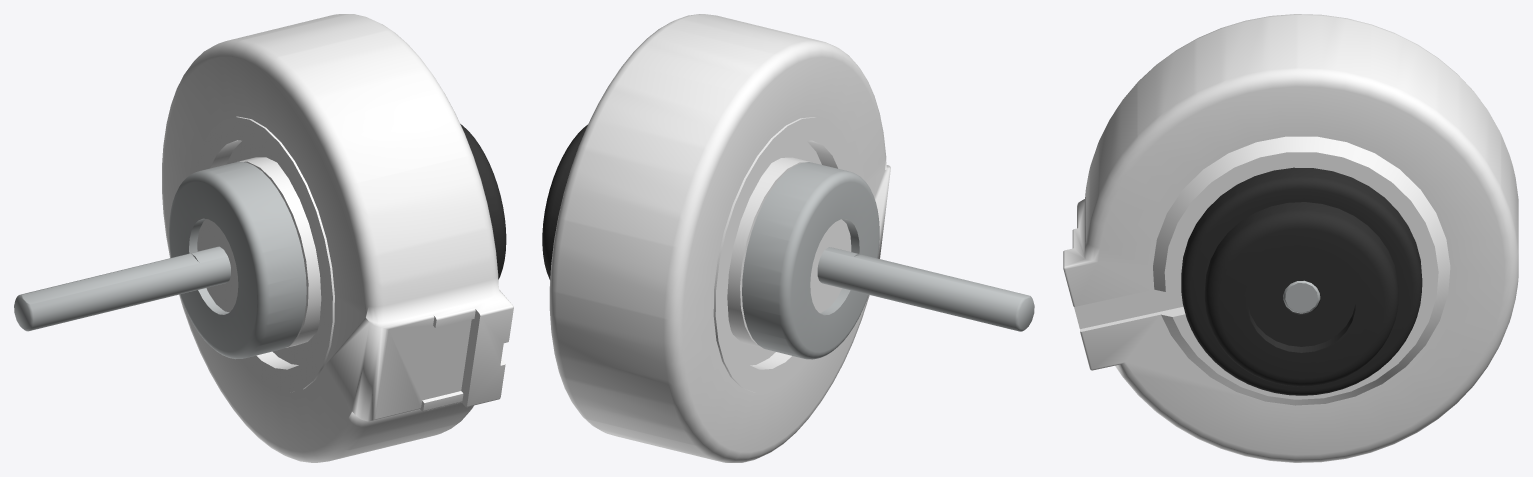
The model's file is 06-Motor_V02.FBX.
The picture shows the model from 3 angles, left to right: view 1: azimuth 30°, elevation 25°; view 2: azimuth 150°, elevation 25°; view 3: azimuth 270°, elevation 25°; orthographic projection.
Visible parts, largest first — view 1: 06-Motor-, 06-Motor-05, 06-Motor-02, 06-Motor-01; view 2: 06-Motor-, 06-Motor-05, 06-Motor-02, 06-Motor-01; view 3: 06-Motor-, 06-Motor-01, 06-Motor-02.
Part boxes in pixels (bbox=[...]): 06-Motor-: bbox=[162, 14, 513, 462]; 06-Motor-05: bbox=[169, 161, 306, 359]; 06-Motor-02: bbox=[14, 246, 230, 331]; 06-Motor-01: bbox=[460, 124, 506, 279]; 06-Motor-: bbox=[549, 14, 890, 462]; 06-Motor-05: bbox=[742, 162, 879, 359]; 06-Motor-02: bbox=[817, 247, 1034, 331]; 06-Motor-01: bbox=[542, 124, 587, 280]; 06-Motor-: bbox=[1063, 14, 1518, 462]; 06-Motor-01: bbox=[1181, 167, 1422, 395]; 06-Motor-02: bbox=[1283, 280, 1320, 313].
Size of the model in its own units: 13 by 11.04 by 11.56.
1 material, 1 textured.
